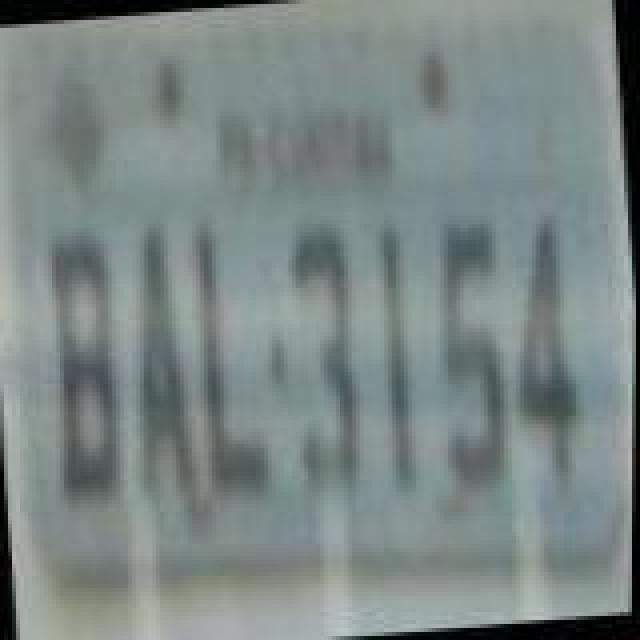1: (368, 216, 424, 496)
3: (280, 218, 368, 502)
4: (504, 216, 592, 488)
5: (424, 210, 520, 494)
A: (116, 222, 204, 506)
B: (40, 230, 128, 506)
L: (190, 214, 282, 506)
